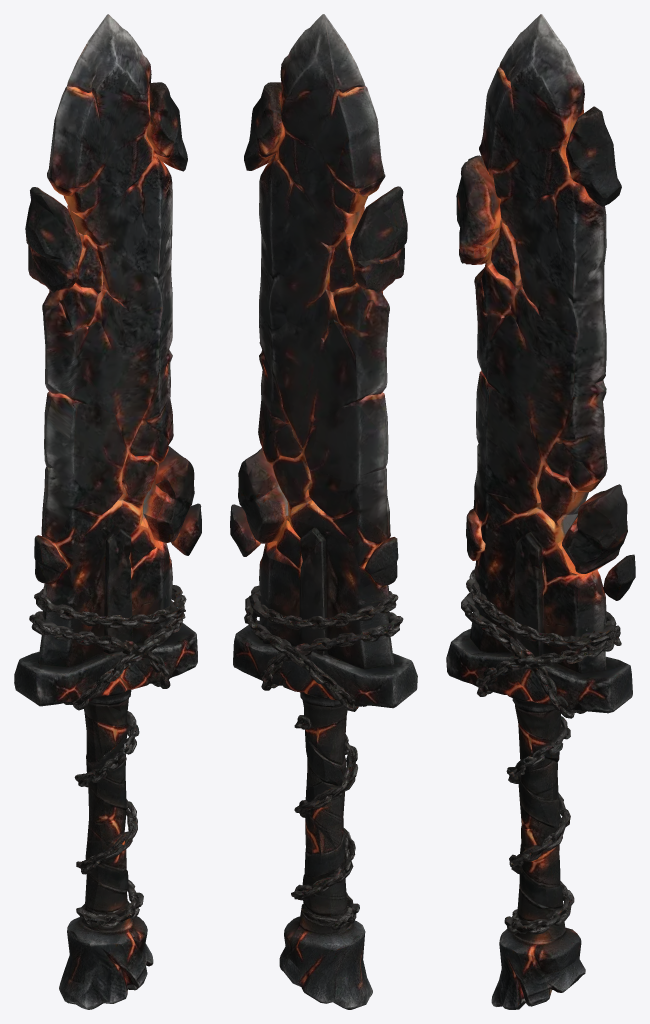
The picture shows the model from 3 angles, left to right: view 1: azimuth 30°, elevation 25°; view 2: azimuth 150°, elevation 25°; view 3: azimuth 330°, elevation 25°; orthographic projection.
Visible parts, largest first — view 1: mesh_node; view 2: mesh_node; view 3: mesh_node.
Part boxes in pixels (box(x1,y1,x2,y2)): mesh_node: box(14, 14, 201, 1009); mesh_node: box(230, 14, 417, 1009); mesh_node: box(446, 14, 635, 1009).
Bounding box in the file's own units: 0.3571 × 1.9 × 0.2001.
1 material, 1 textured.
